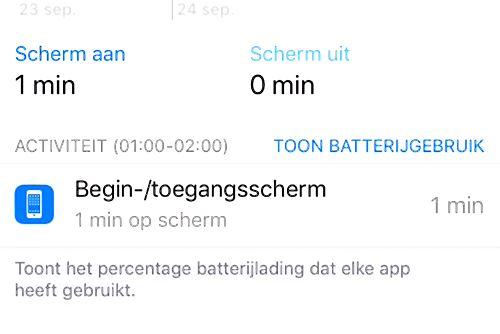activity: (6, 126, 239, 162)
app: (6, 173, 491, 243)
